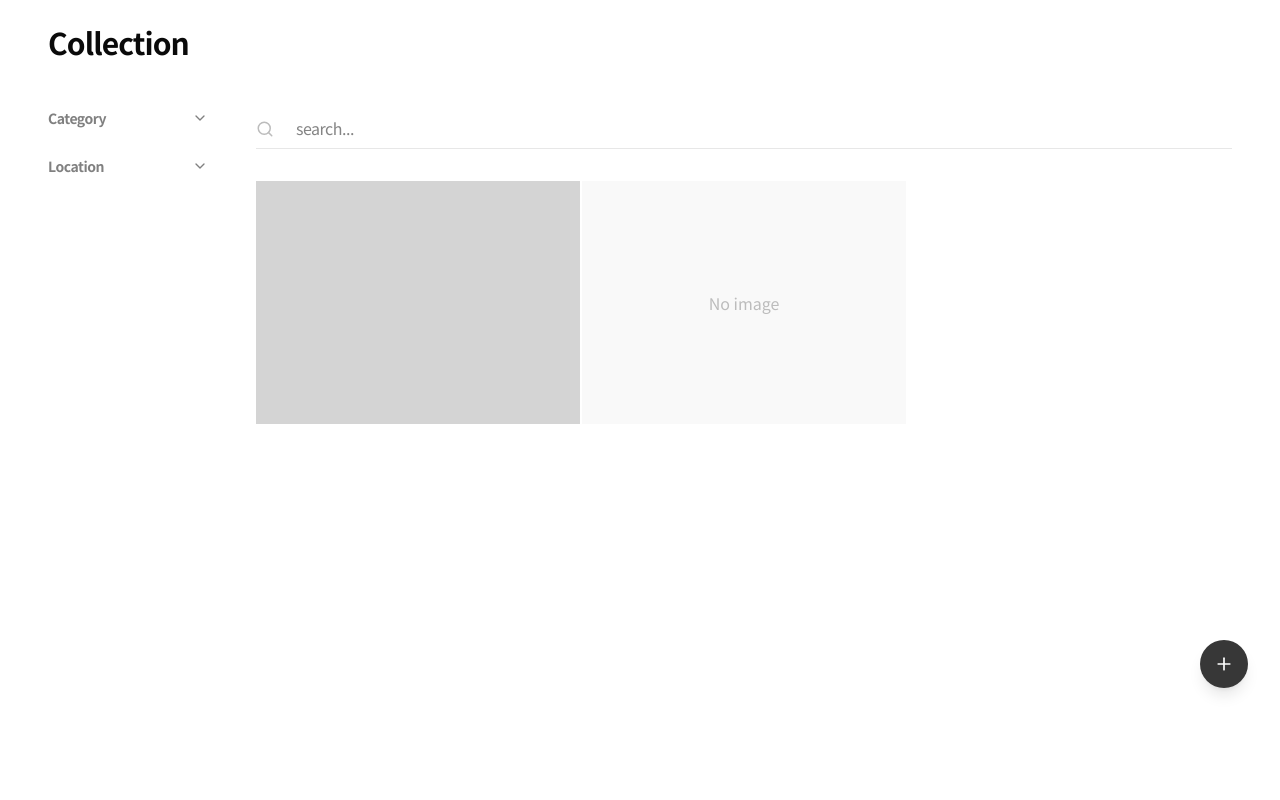
Test: FurnitureListClient › フィルタ機能 › ロケーションフィルタが動作する
This screenshot has width=1280, height=800.
Click the button "Location" at (128, 166), box [48, 156, 208, 176]
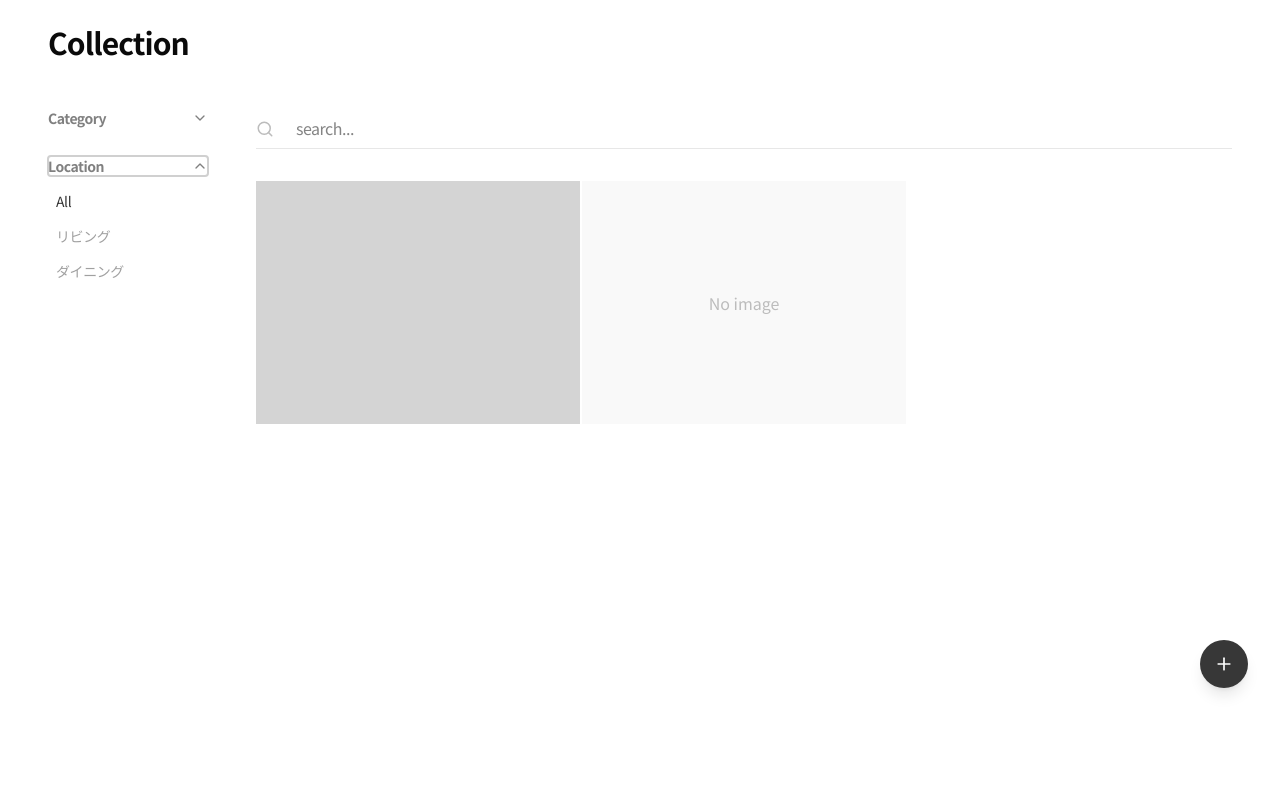
Click the button "ダイニング" at (132, 271), box [56, 261, 208, 281]
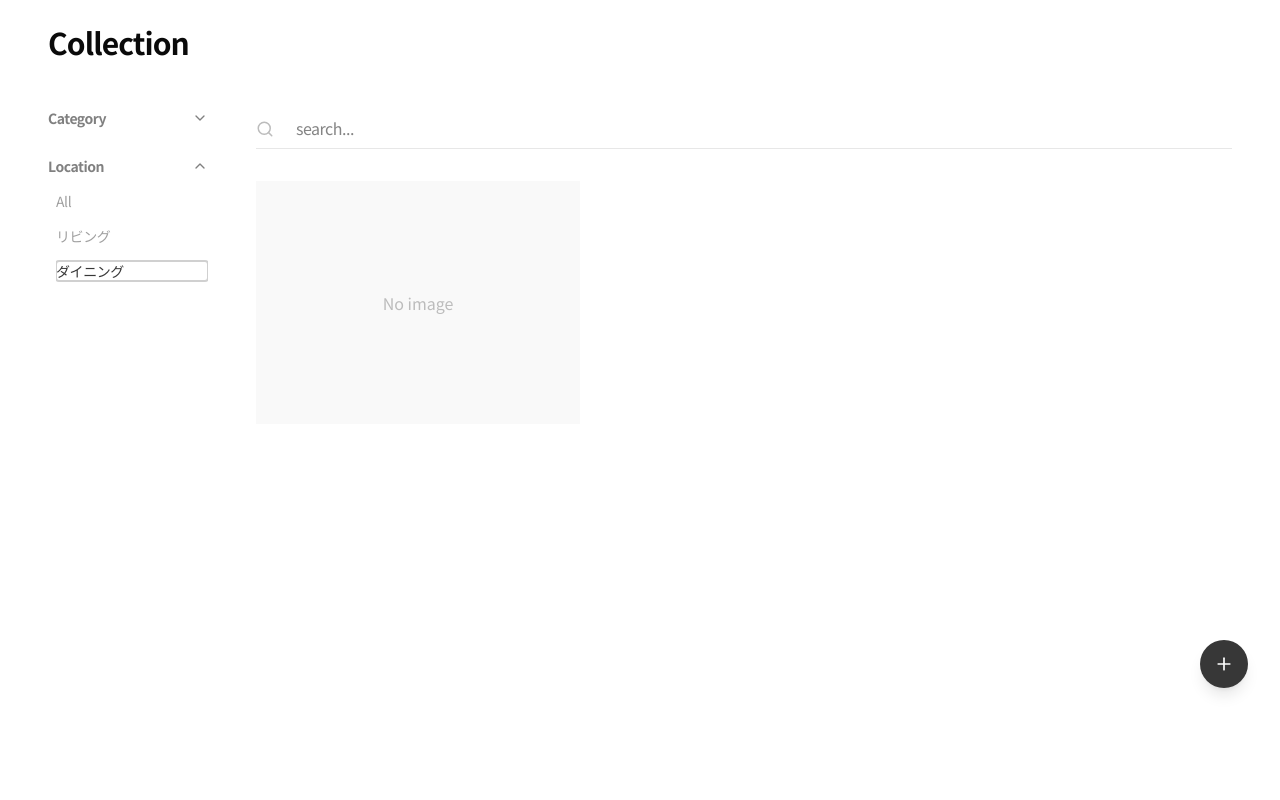
Now the picture "チェアA" is gone
